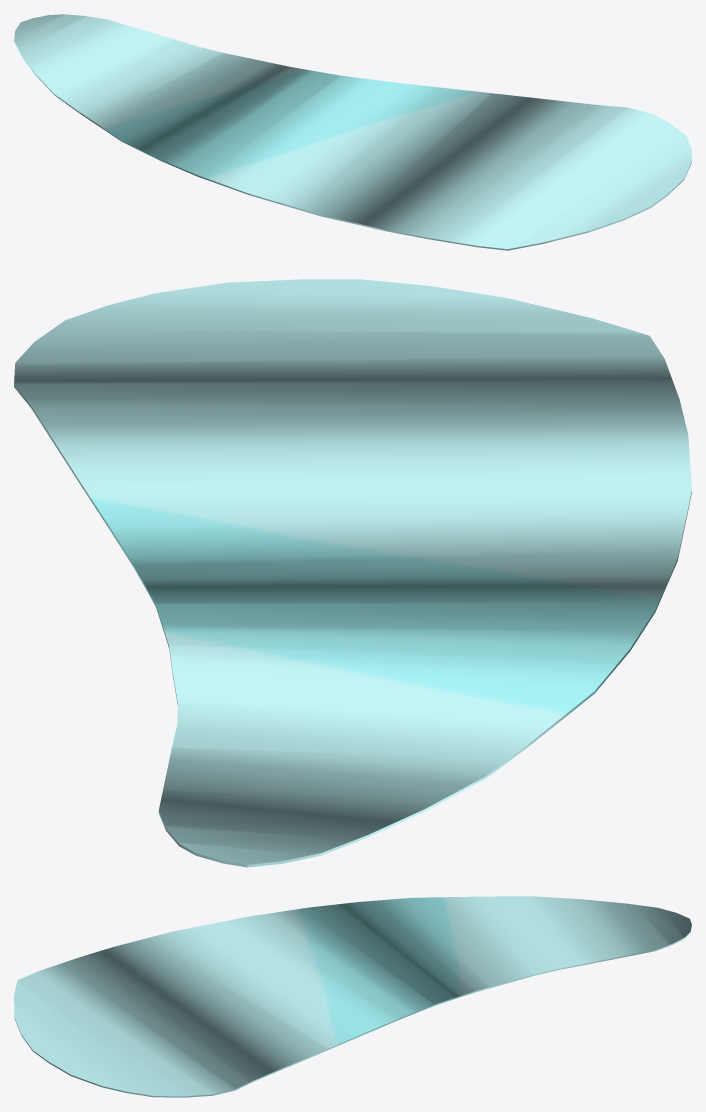
The model's file is Level 183 unroll rhino horn.fbx.
The picture shows the model from 3 angles, top to bottom: view 1: azimuth 30°, elevation 25°; view 2: azimuth 150°, elevation 25°; view 3: azimuth 270°, elevation 25°; orthographic projection. The views are drawn at different scales.
Parts seen in each view (by area): view 1: Blend; view 2: Blend; view 3: Blend.
Boxes of the visible parts, left/top/right/bottom form: Blend: left=14, top=14, right=691, bottom=250; Blend: left=14, top=279, right=691, bottom=867; Blend: left=14, top=896, right=691, bottom=1097.
Size of what is drawn, in the model's own units: 316 by 1 by 454.
